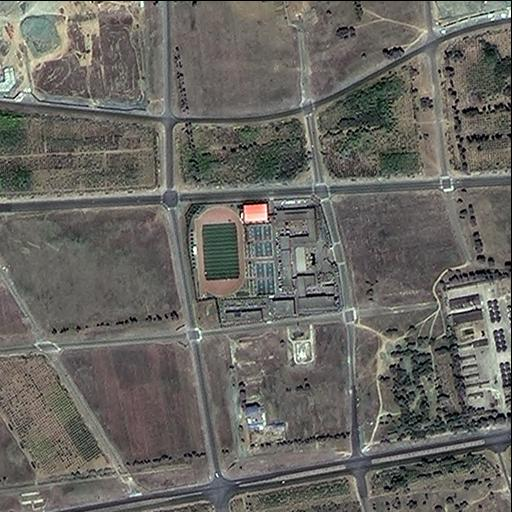school: (182, 193, 344, 333)
